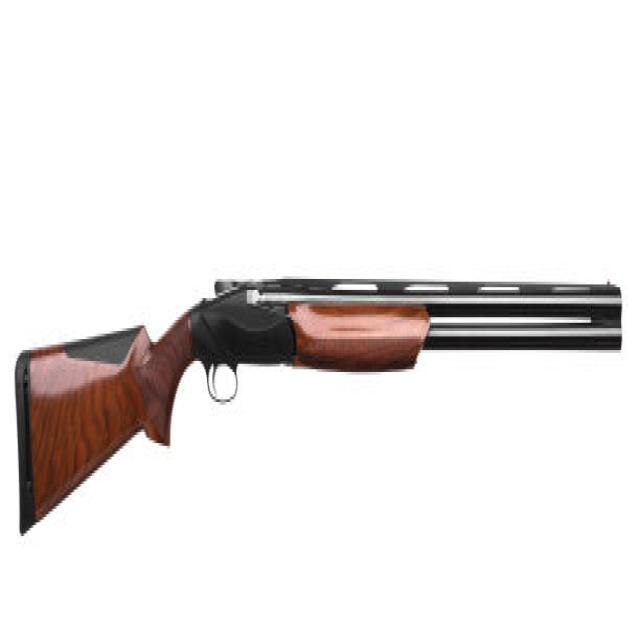rifle: (12, 266, 629, 550)
